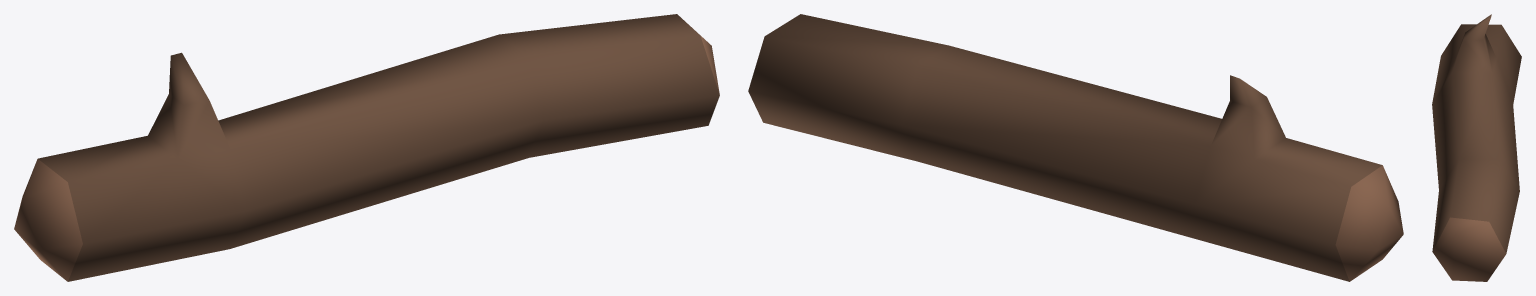
Rendered from branch.fbx.
3 views of the same model, side by side, from view 1: azimuth 30°, elevation 25°; view 2: azimuth 150°, elevation 25°; view 3: azimuth 270°, elevation 25° (orthographic). The views are drawn at different scales.
Parts seen in each view (by area): view 1: branch; view 2: branch; view 3: branch.
Boxes of the visible parts, x1,y1,x2,y2 form: branch: (14, 14, 719, 281); branch: (748, 14, 1403, 281); branch: (1432, 14, 1521, 281).
Bounding box in the file's own units: 0.814 × 0.2106 × 0.1494.
